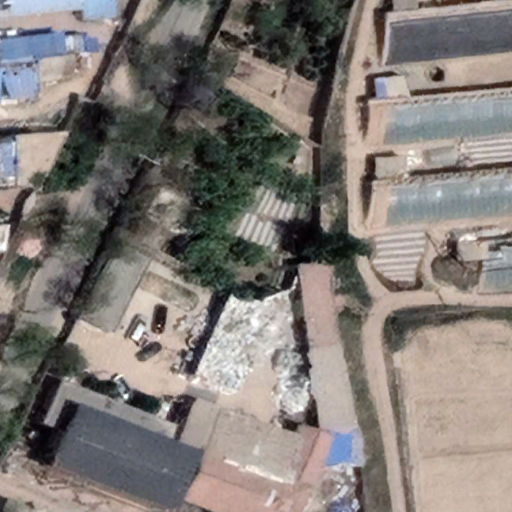msw: (200, 294, 313, 416)
